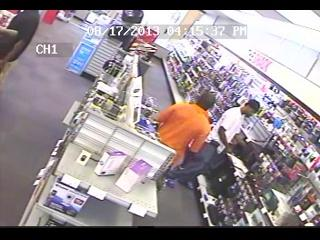Normal: (168, 99, 261, 196), (155, 91, 217, 172), (0, 10, 40, 76)
